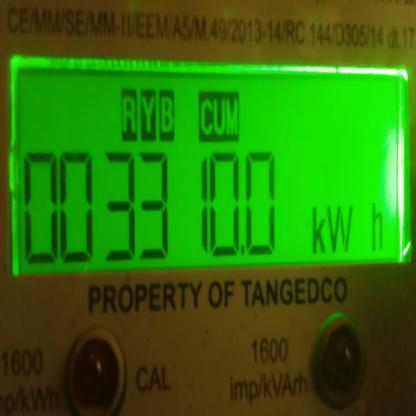.: (310, 203, 387, 253)
0: (239, 244, 247, 257)
1: (21, 152, 60, 266), (56, 150, 92, 262), (245, 151, 278, 255), (209, 147, 237, 254)
2: (200, 154, 208, 256)
4: (136, 149, 172, 261), (102, 150, 137, 264)
